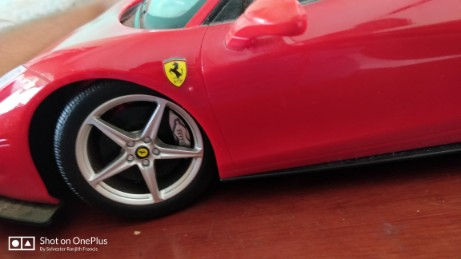unaligned_wheel: (32, 75, 235, 220)
